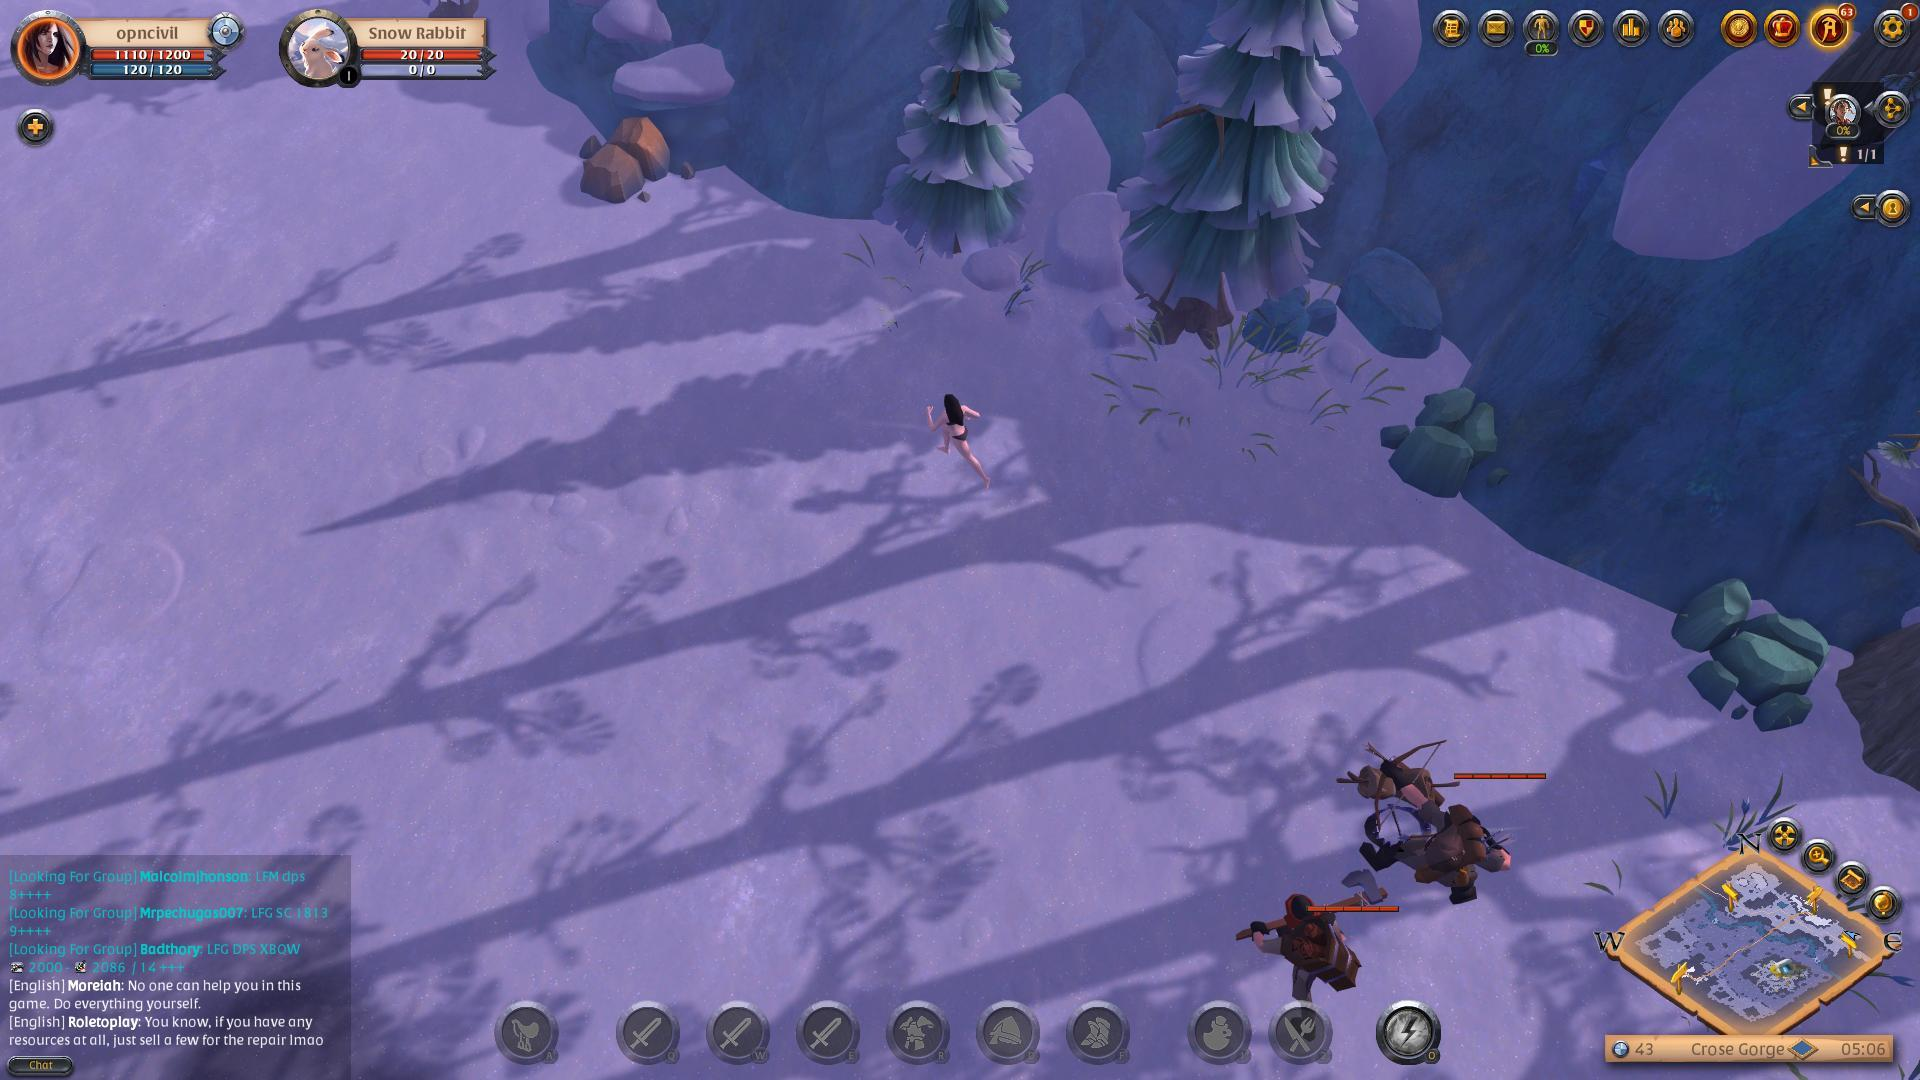limestone: (560, 102, 705, 218)
mob: (1350, 754, 1556, 919), (1232, 880, 1393, 1006)
sandstone: (1663, 562, 1838, 758), (1377, 377, 1514, 506)
